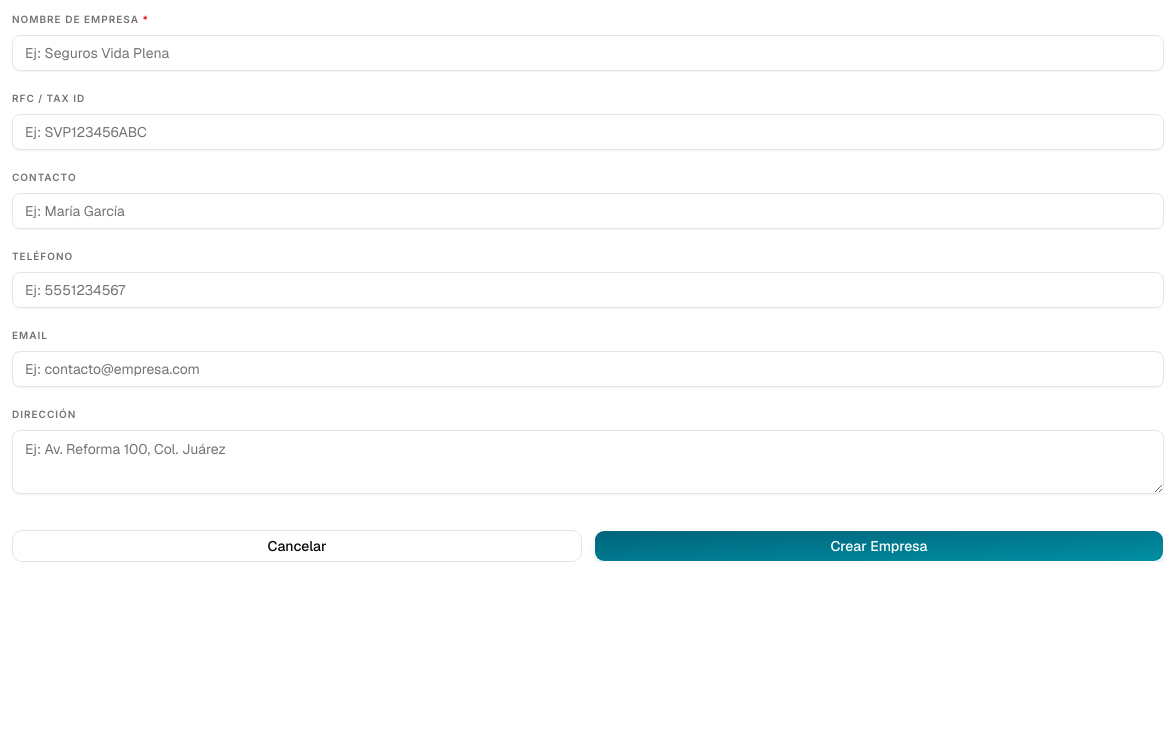
Scenario: CompanyForm › shows server error when action returns an error
Step 1. Type "Nueva Empresa" into the field labelled "Nombre de Empresa *" → (588, 53), box [12,35,1164,71]
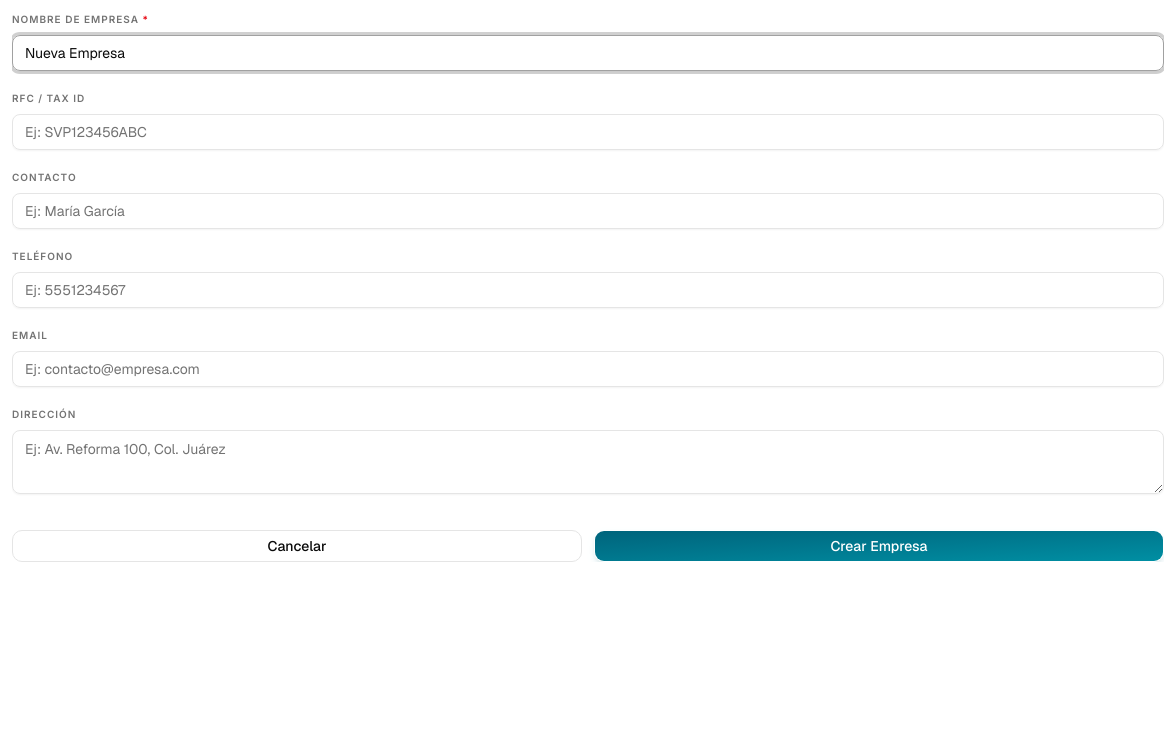
Step 2. Click the button "Crear Empresa" → (879, 546), box [594,530,1164,562]
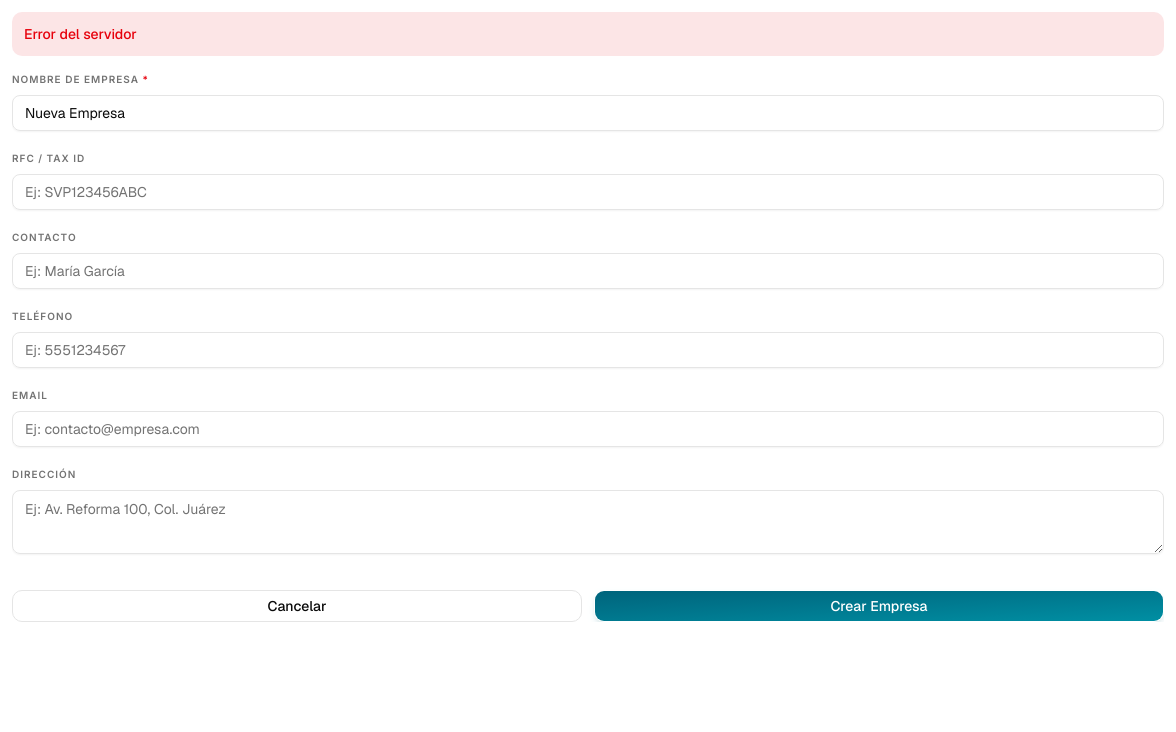
Expected: the text "Error del servidor" is shown, [24,25,137,43]
